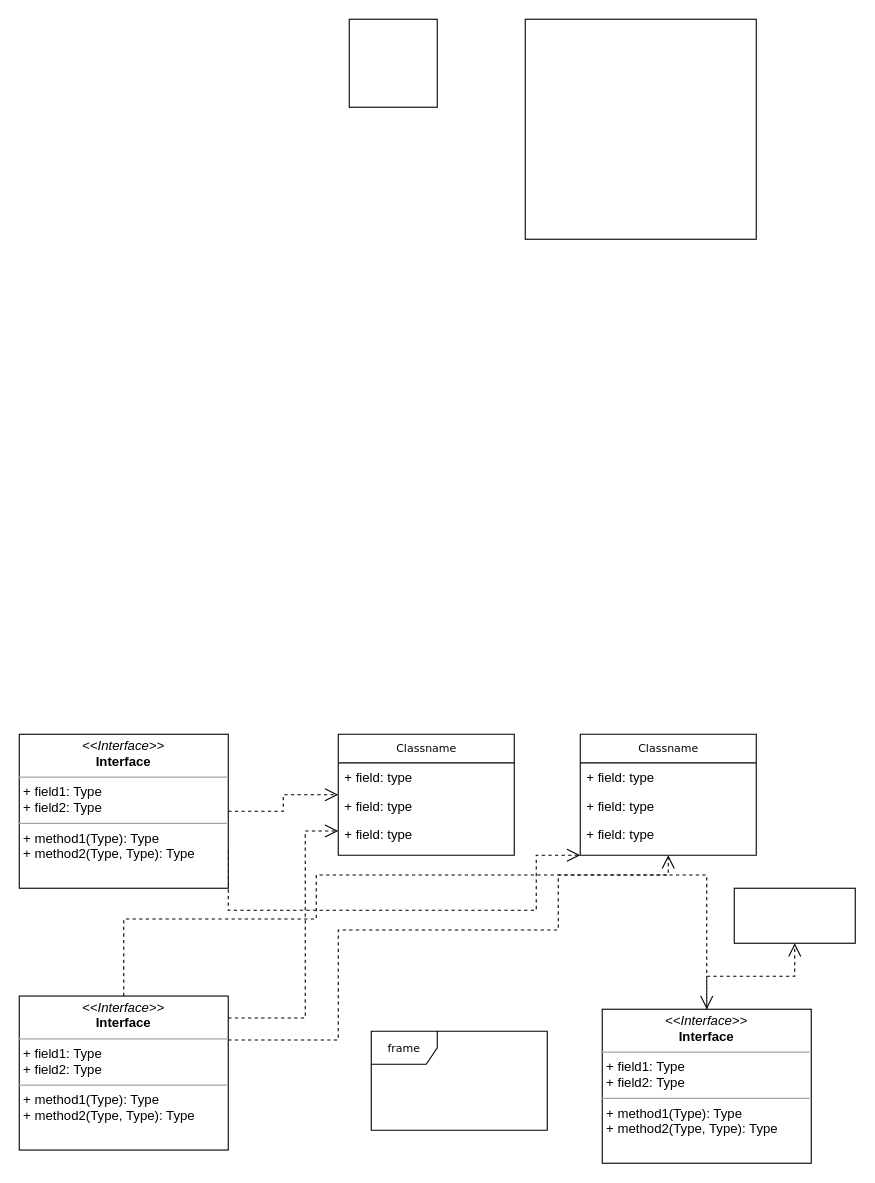
The diagram is 875 pixels wide and 1183 high, and some of its shapes have lost their labels. Here are the shapes that lost their labels. From the top down, the box of each, then its label:
(348, 18, 437, 107): TEST
(524, 18, 756, 239): sdsdff
(733, 887, 855, 943): «interface» Name
